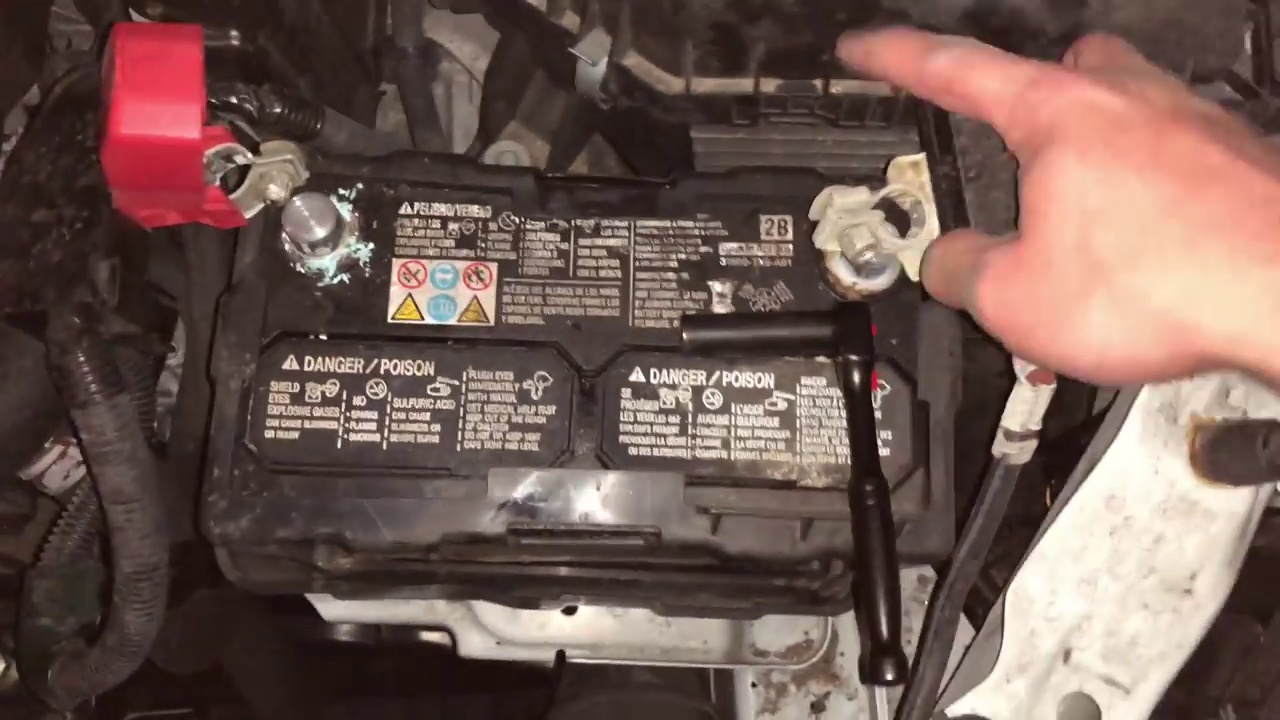battery: (204, 141, 957, 568)
neg_disconnected: (799, 155, 955, 315)
neg_touched: (810, 131, 1120, 375)
pos_disconnected: (84, 47, 397, 312)
